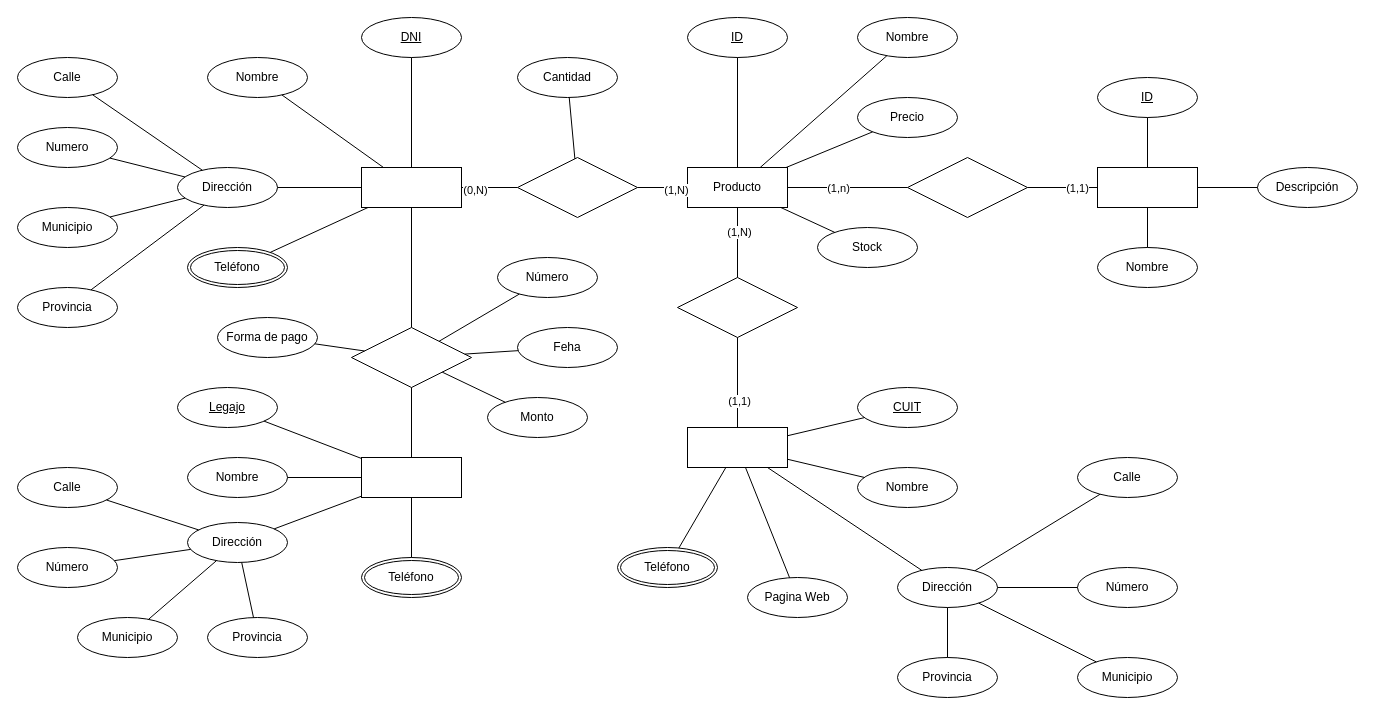
The diagram is 1375 pixels wide and 715 high, and some of its shapes have lost their labels. The centre of each missing label's shape, as x and y in pixels:
"Categoría" goes at (x=1147, y=187).
"Cliente" goes at (x=411, y=187).
"Compra" goes at (x=577, y=187).
"Pertenece" goes at (x=967, y=187).
"Proveedor" goes at (x=737, y=447).
"Suministrado" goes at (x=737, y=307).
"Vendedor" goes at (x=411, y=477).
"Venta" goes at (x=411, y=357).
